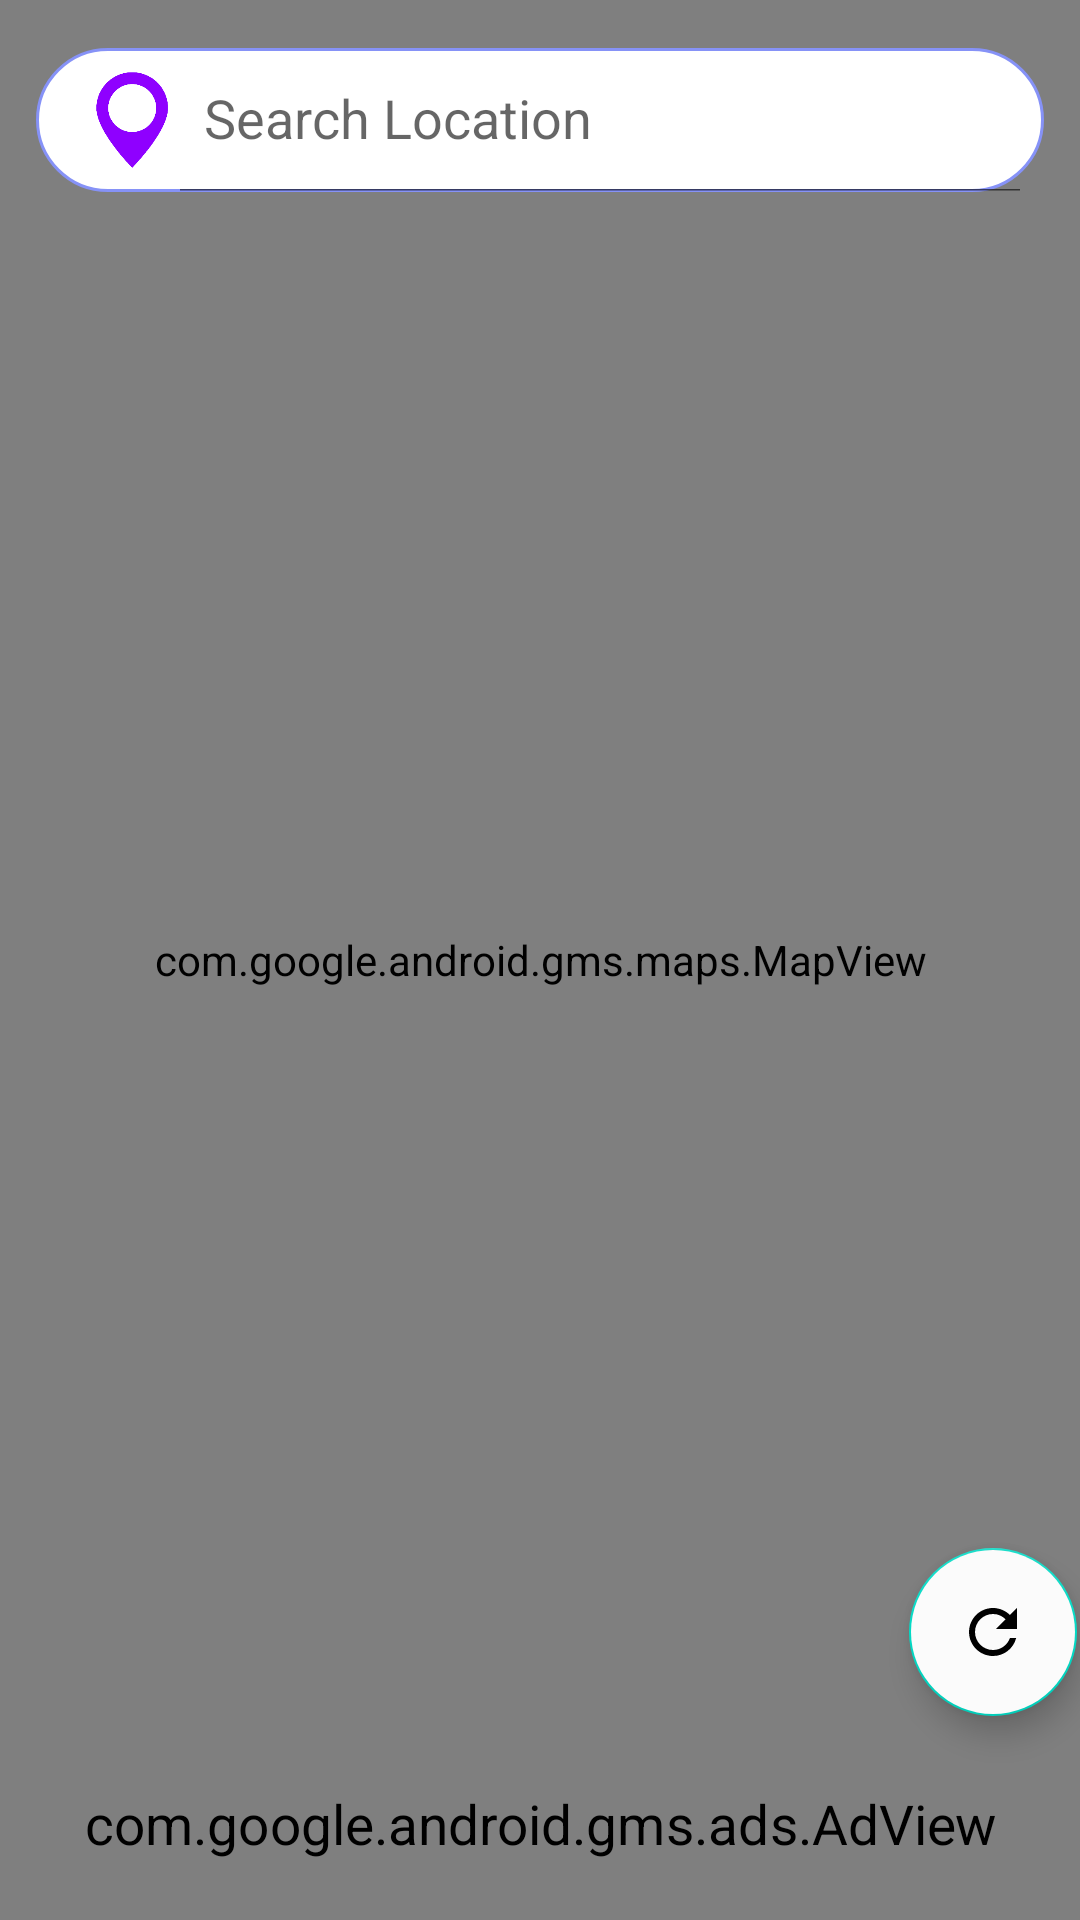

Named icons in this screenshot (1080px x 1920px) and their bounding boxes, bbox=(x1, y1, x2, y2):
refresh: bbox=(909, 1548, 1077, 1716)
